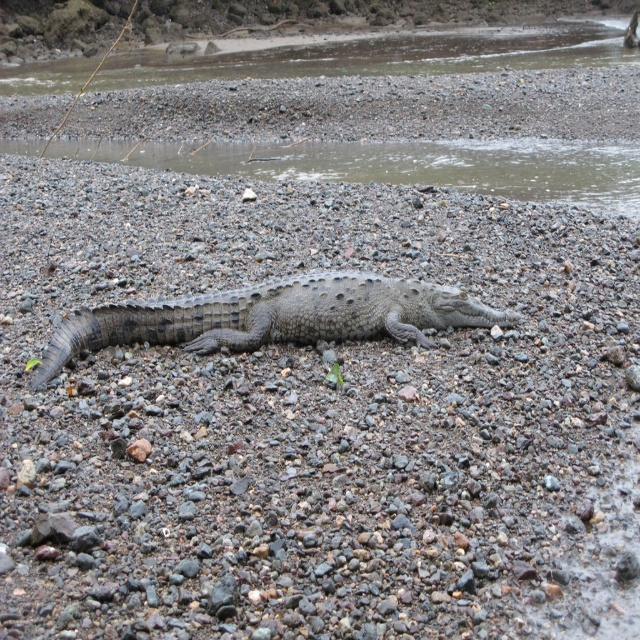Crocodile: (29, 271, 521, 391)
